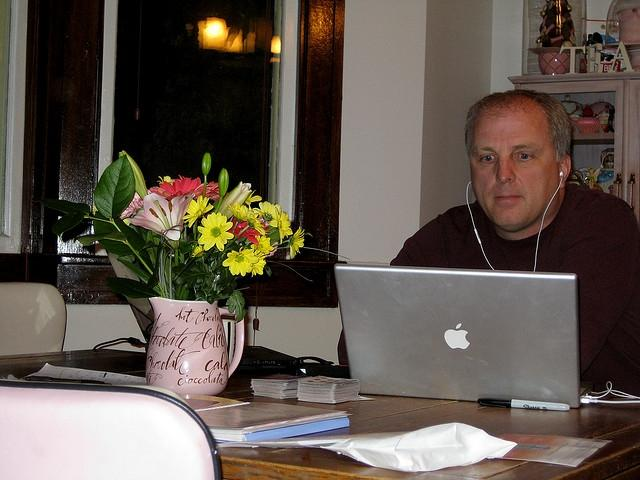apple: (444, 329, 470, 350)
